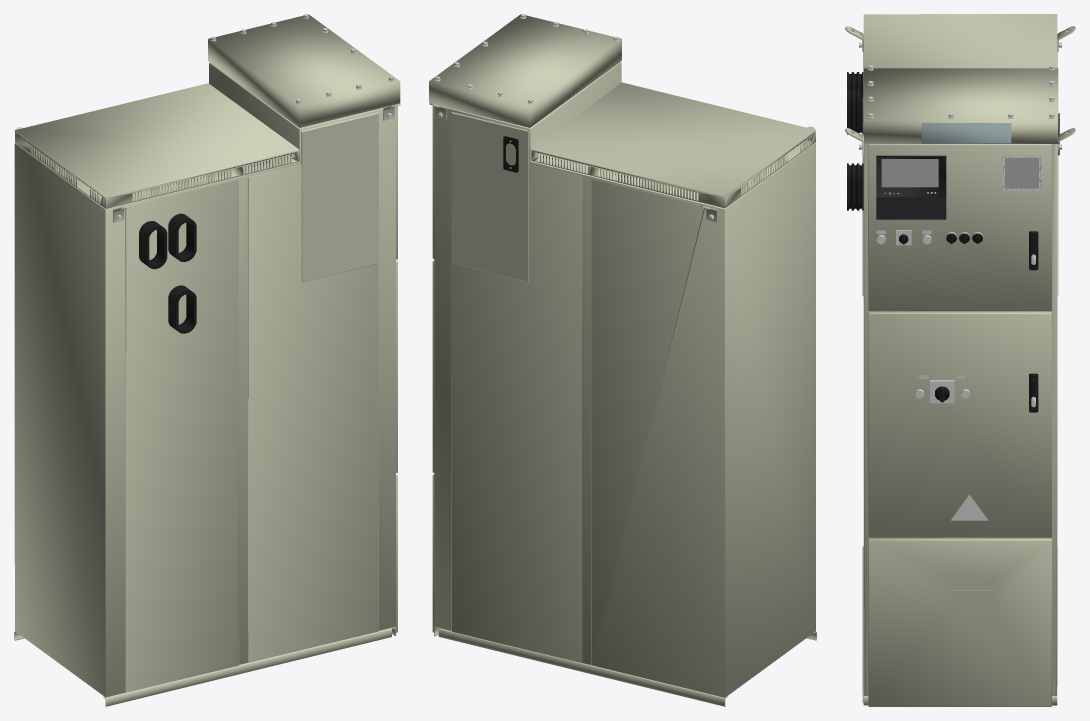
File: Element_left.fbx
The picture shows the model from 3 angles, left to right: view 1: azimuth 30°, elevation 25°; view 2: azimuth 150°, elevation 25°; view 3: azimuth 270°, elevation 25°; orthographic projection. The views are drawn at different scales.
Parts seen in each view (by area): view 1: Шкаф, Накладки шин; view 2: Шкаф; view 3: Шкаф, Подпись шкафа, Накладки шин, Табло, Часть экрана, Экран, Амперметр.001, Предупреждающий знак, Подложка амперметра.001, Куб под вкл\откл элемента.
Boxes of the visible parts, <box> form: Шкаф: <box>14,14,400,706</box>; Накладки шин: <box>139,213,196,333</box>; Шкаф: <box>429,14,816,706</box>; Шкаф: <box>845,14,1075,706</box>; Подпись шкафа: <box>921,123,1011,143</box>; Накладки шин: <box>847,72,863,210</box>; Табло: <box>881,159,938,187</box>; Часть экрана: <box>876,197,946,219</box>; Экран: <box>876,155,946,197</box>; Амперметр.001: <box>1005,158,1038,188</box>; Предупреждающий знак: <box>951,494,988,520</box>; Подложка амперметра.001: <box>1002,155,1041,191</box>; Куб под вкл\откл элемента: <box>930,380,954,403</box>.
Bounding box in the file's own units: 143 × 251 × 88.94.
